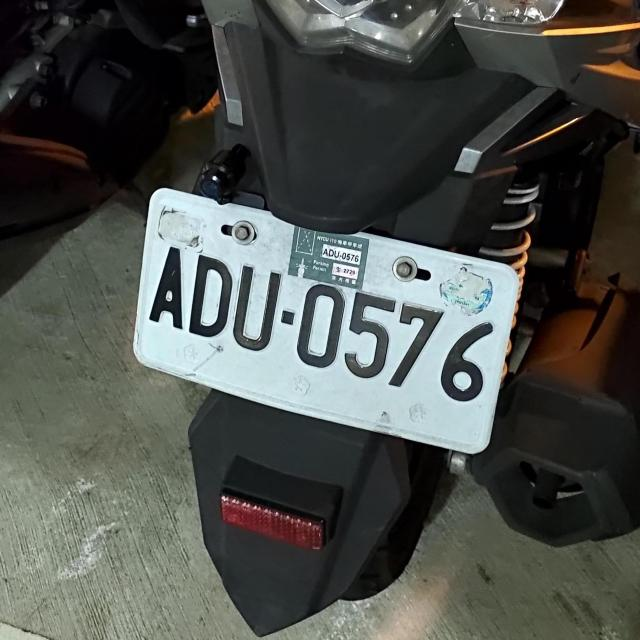W: (131, 188, 522, 456)
